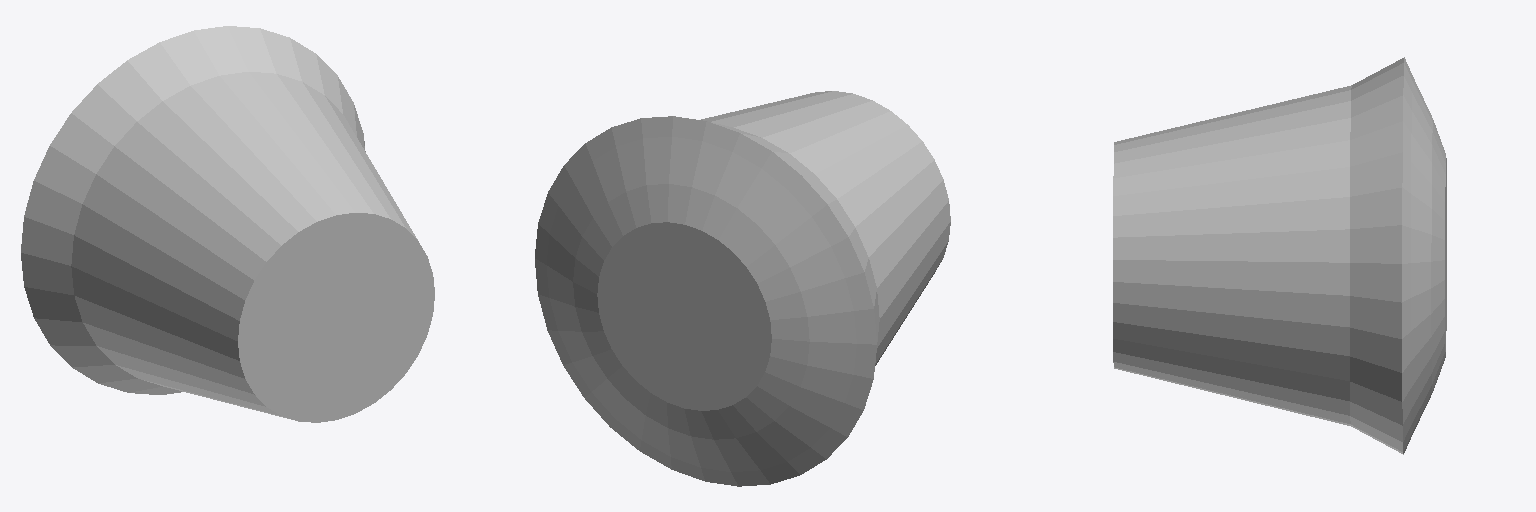
The model's file is light5.obj.
The picture shows the model from 3 angles: view 1: azimuth 30°, elevation 25°; view 2: azimuth 150°, elevation 25°; view 3: azimuth 270°, elevation 25°; orthographic projection.
Visible parts, largest first — view 1: Cylinder.004_Cylinder.005; view 2: Cylinder.004_Cylinder.005; view 3: Cylinder.004_Cylinder.005.
Boxes of the visible parts, x1,y1,x2,y2 form: Cylinder.004_Cylinder.005: [21, 26, 434, 422]; Cylinder.004_Cylinder.005: [535, 91, 950, 486]; Cylinder.004_Cylinder.005: [1113, 57, 1446, 454].
Size of the model in its own units: 3.18 by 3.18 by 2.67.